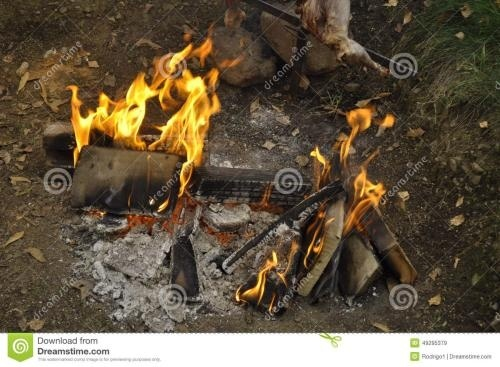fire: (238, 98, 398, 303), (67, 28, 231, 162)
